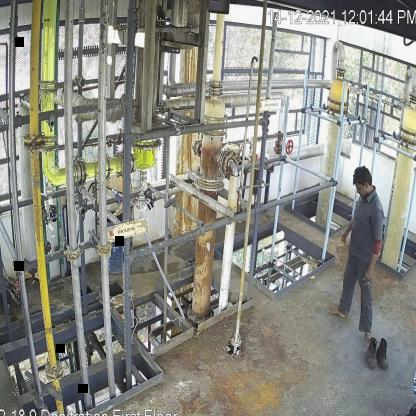no_shoes: (326, 302, 348, 321)
shoes: (378, 338, 390, 370), (366, 338, 377, 368)
